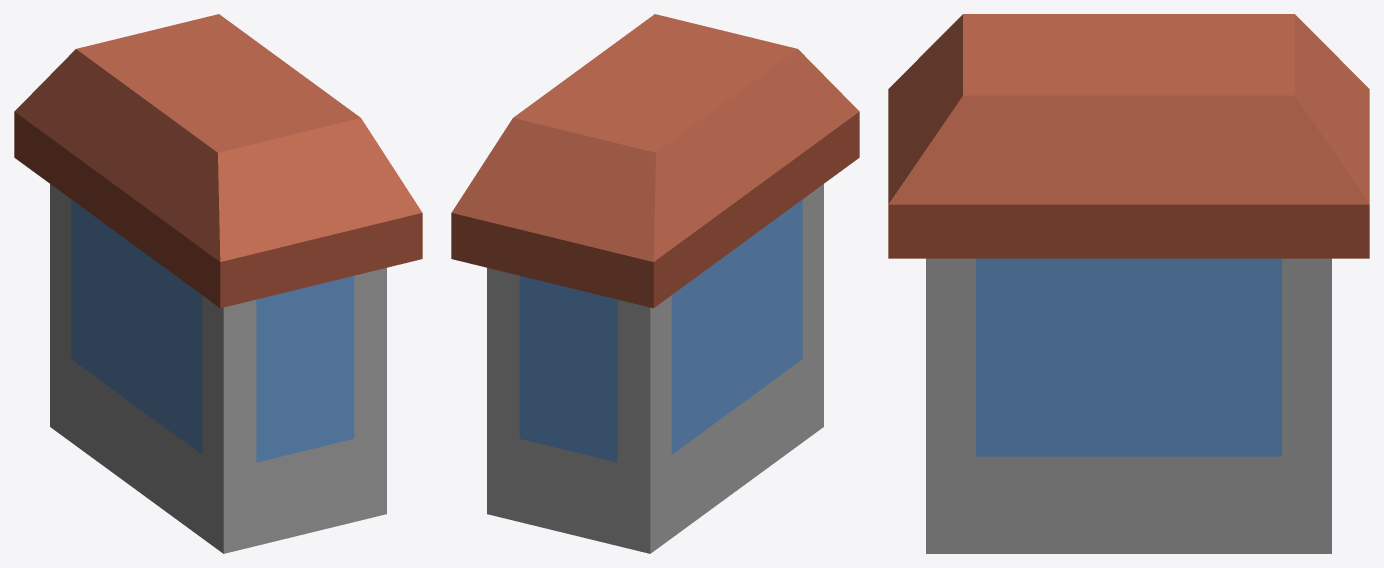
File: tingzi.FBX
The picture shows the model from 3 angles, left to right: view 1: azimuth 30°, elevation 25°; view 2: azimuth 150°, elevation 25°; view 3: azimuth 270°, elevation 25°; orthographic projection. The views are drawn at different scales.
Parts seen in each view (by area): view 1: tingzi; view 2: tingzi; view 3: tingzi.
Part boxes in pixels (x1=…): tingzi: x1=14, y1=14, x2=422, y2=553; tingzi: x1=451, y1=14, x2=859, y2=553; tingzi: x1=888, y1=14, x2=1369, y2=553.
Size of the model in its own units: 238 by 435 by 420.
